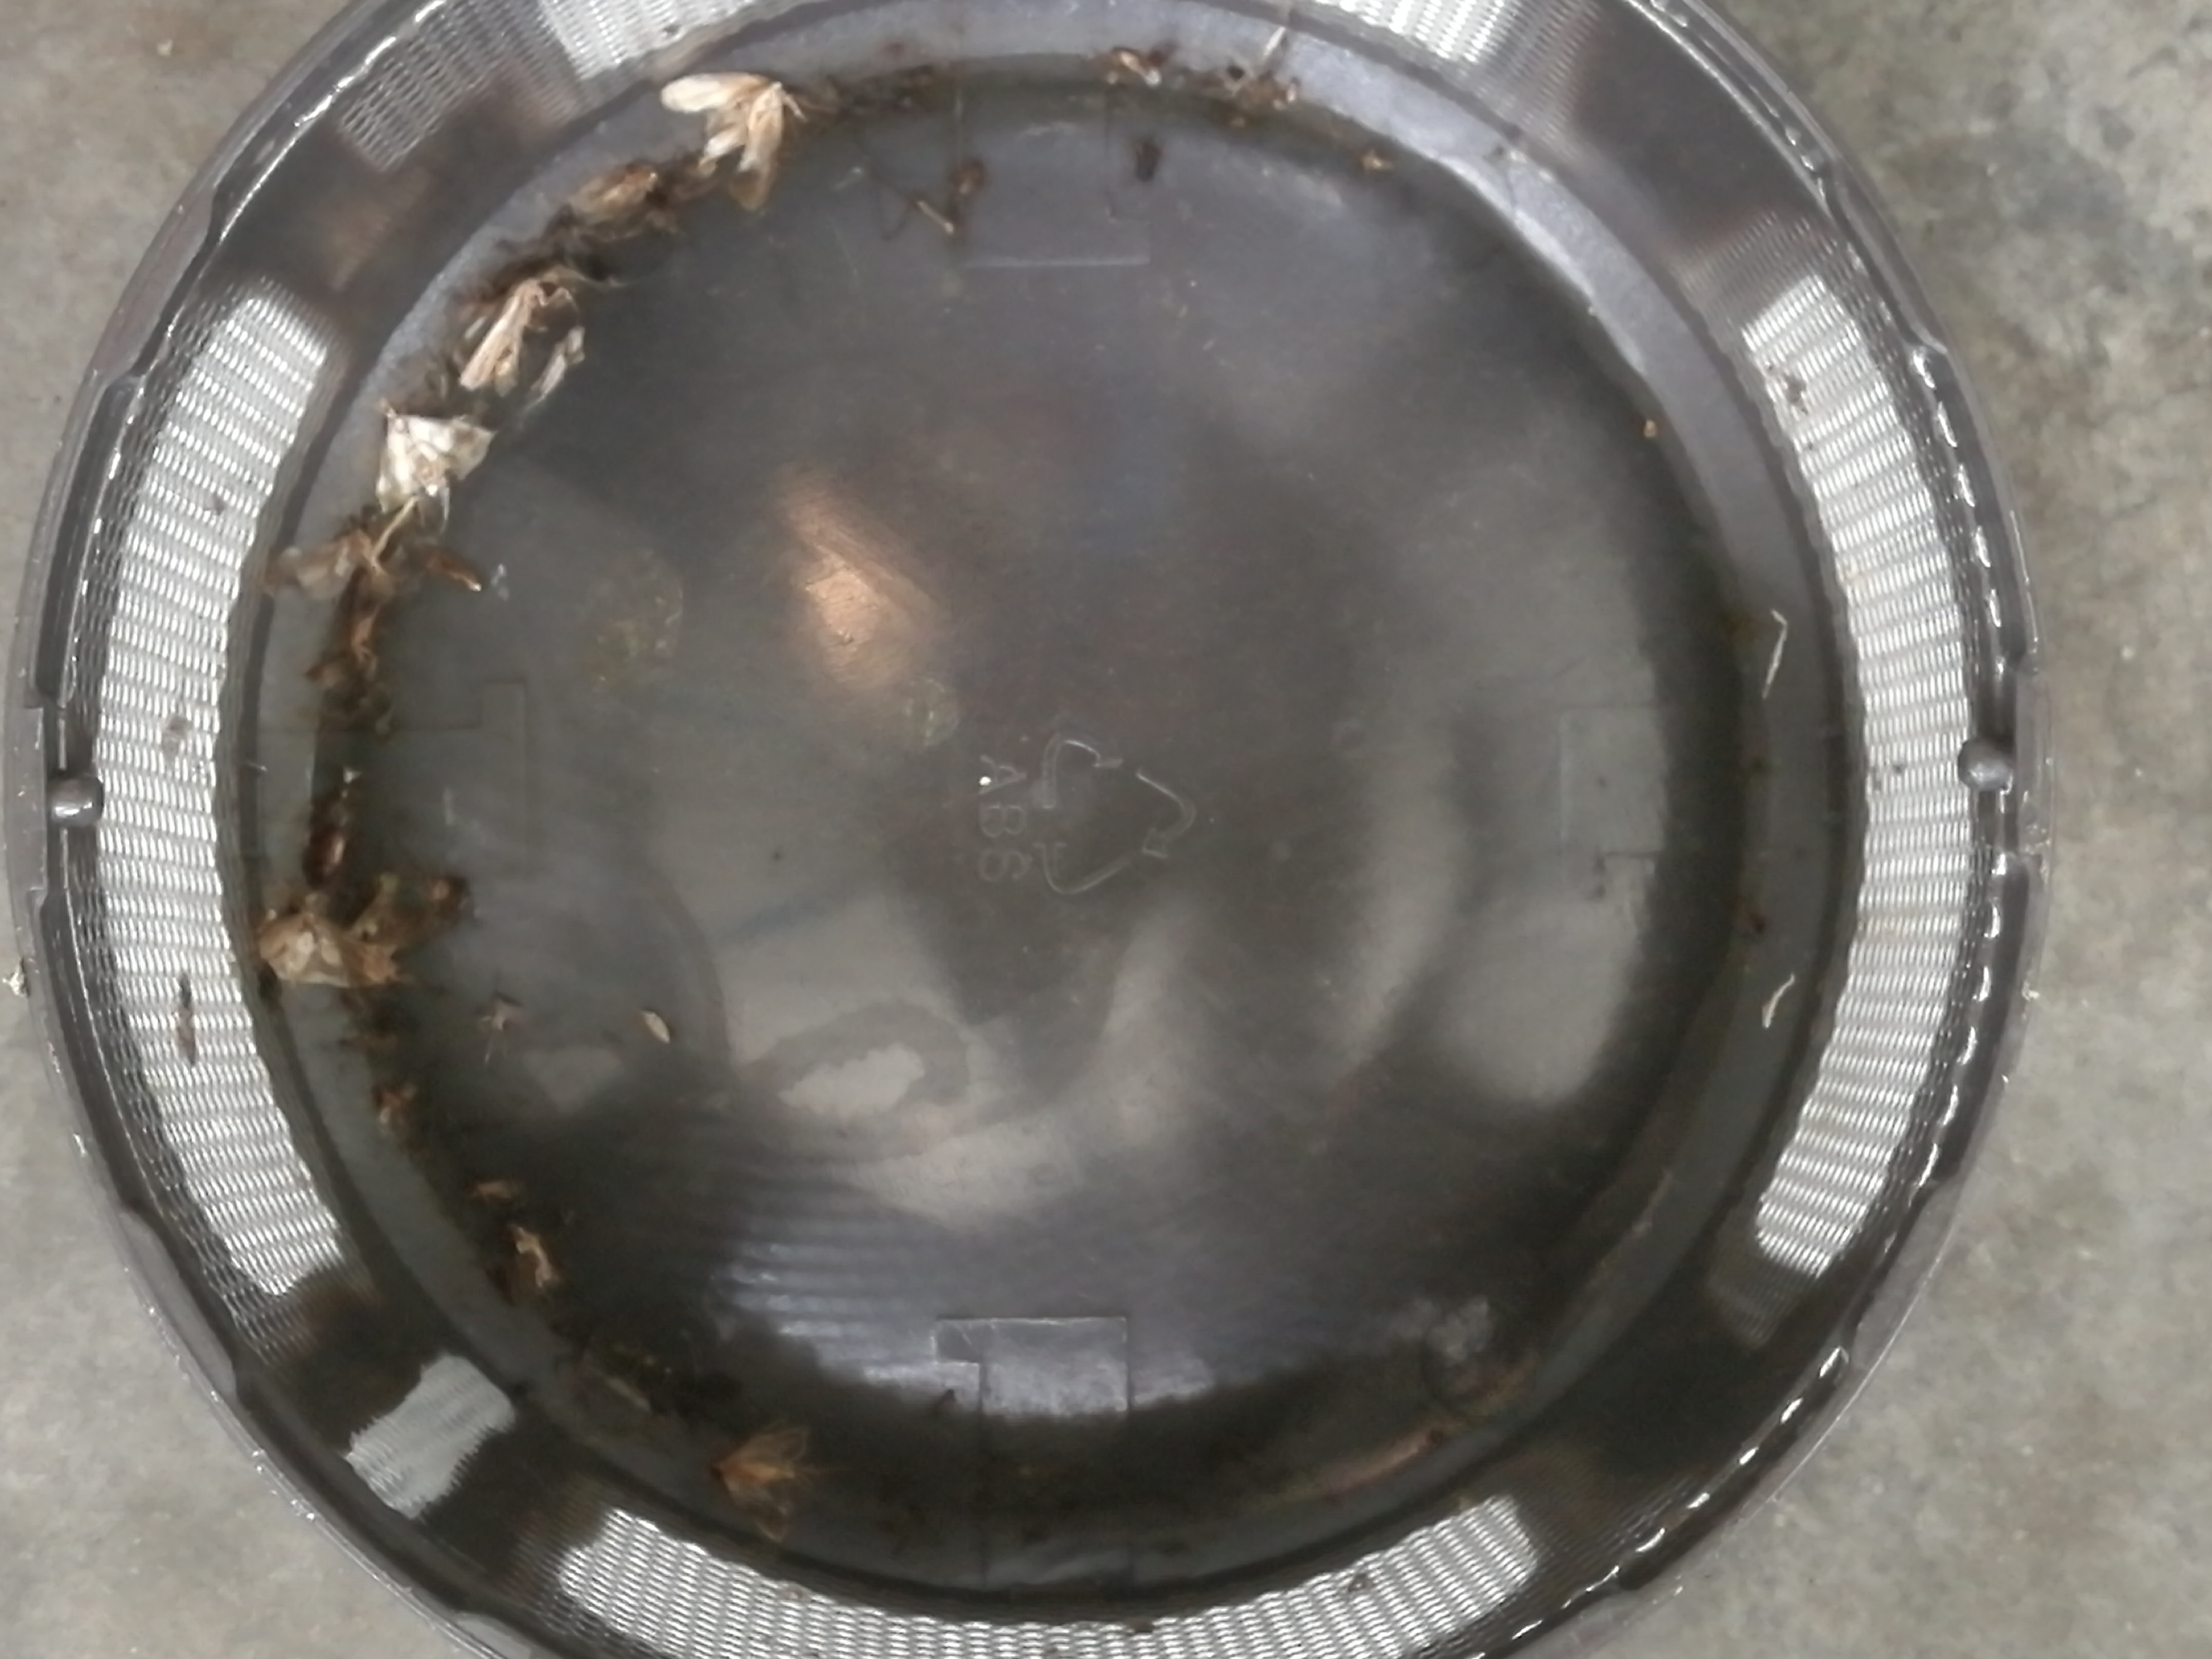mosquito: (462, 279, 538, 389)
moth: (261, 896, 399, 985), (664, 73, 784, 173), (378, 410, 495, 511), (711, 1420, 805, 1541)
